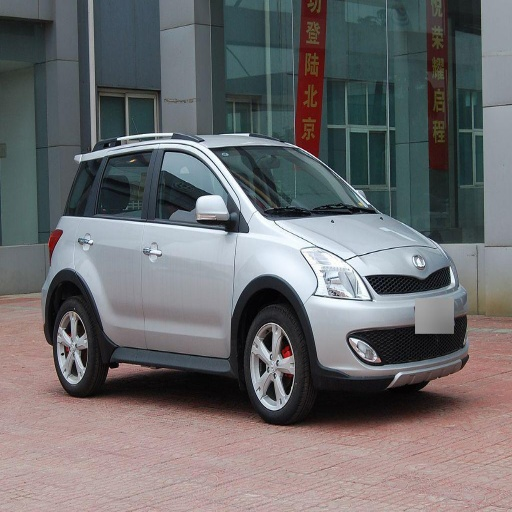back_right_door: (69, 145, 159, 348)
front_bumper: (308, 247, 469, 387)
front_right_door: (143, 144, 238, 357)
front_right_light: (302, 247, 370, 300)
